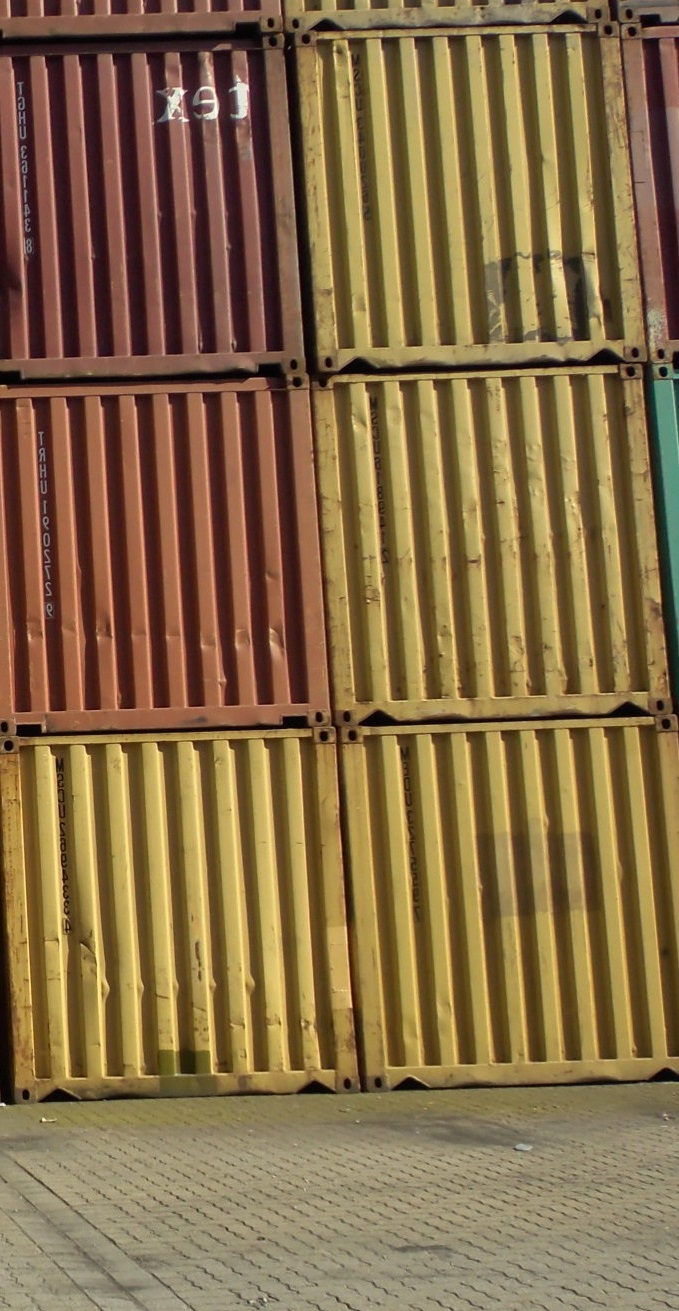container_no_door: (303, 369, 668, 727), (336, 725, 679, 1090), (5, 735, 337, 1098), (303, 30, 651, 373), (3, 378, 315, 732), (1, 28, 303, 383)
